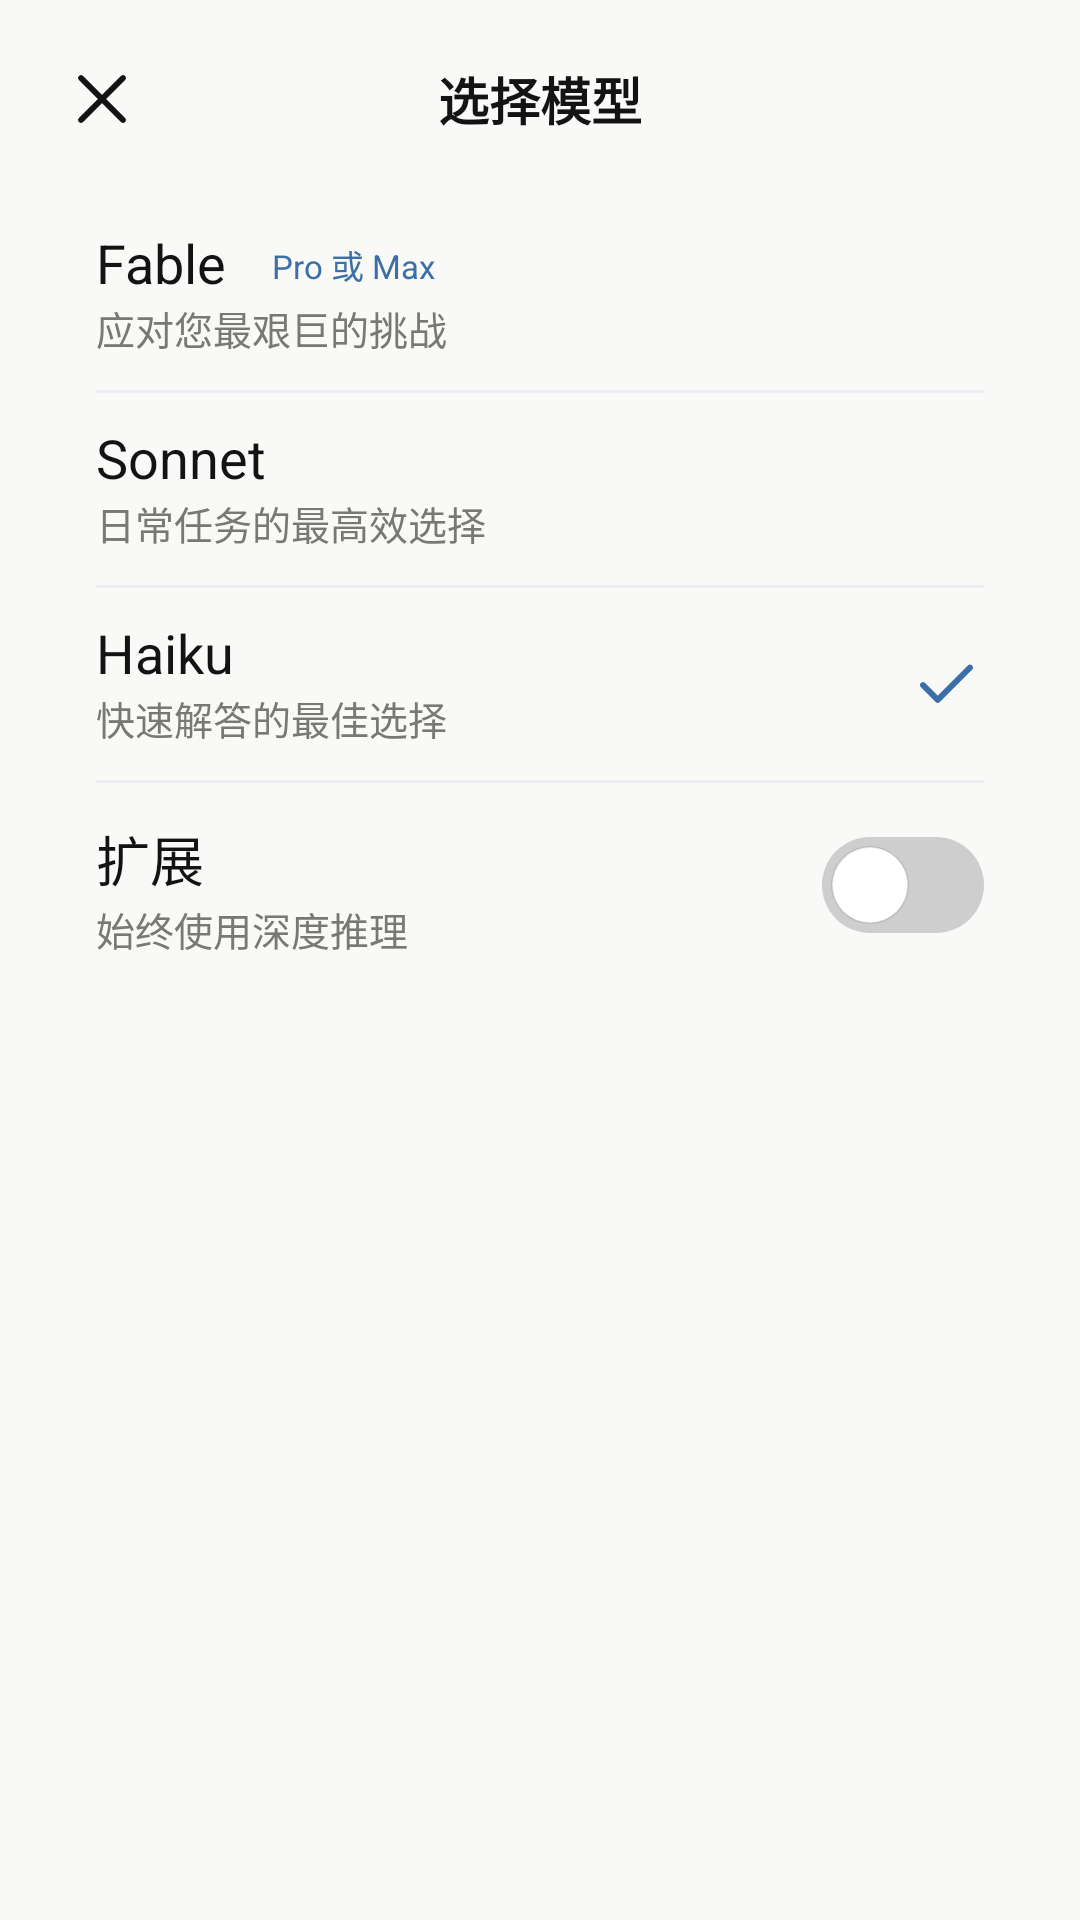

Icons on this 1080w x 1920h Android screen, each with the point to tap as (x=x, y=y):
check: (x=946, y=683)
关闭: (x=102, y=99)
